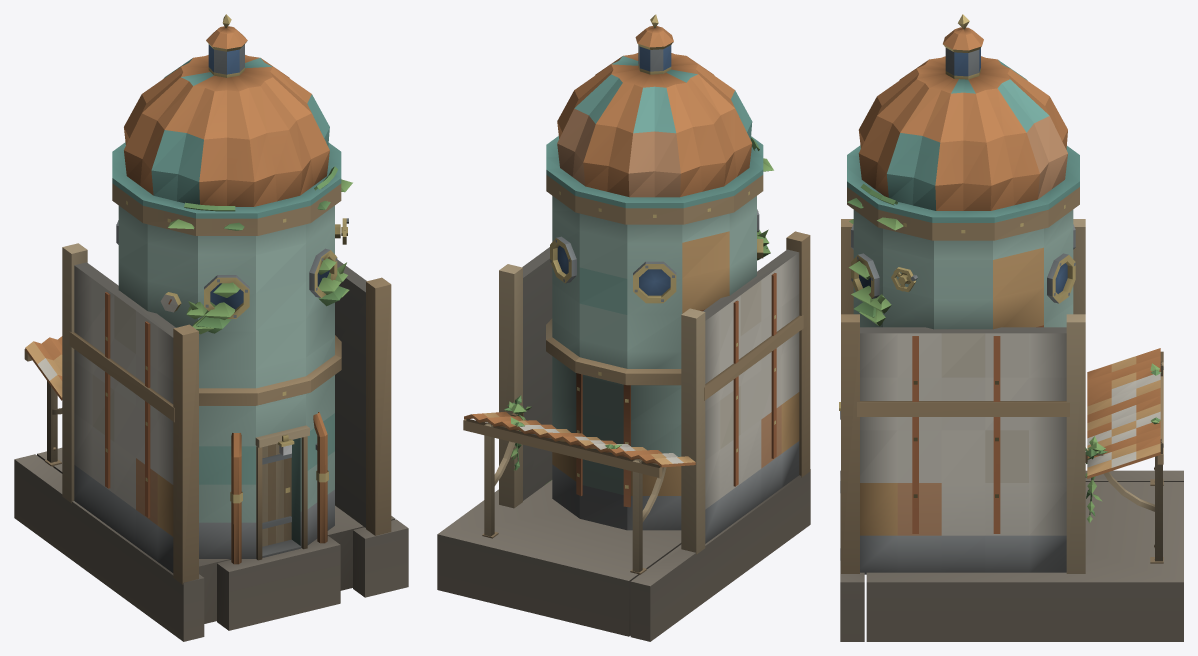
Rendered from dome.glb.
3 views of the same model, side by side, from view 1: azimuth 30°, elevation 25°; view 2: azimuth 150°, elevation 25°; view 3: azimuth 270°, elevation 25° (orthographic). The views are drawn at different scales.
Visible parts, largest first — view 1: dome; view 2: dome; view 3: dome.
Boxes of the visible parts, x1,y1,x2,y2 form: dome: [14, 14, 408, 641]; dome: [437, 14, 810, 641]; dome: [839, 14, 1183, 641].
Size of the model in its own units: 4.98 by 11.77 by 6.48.
